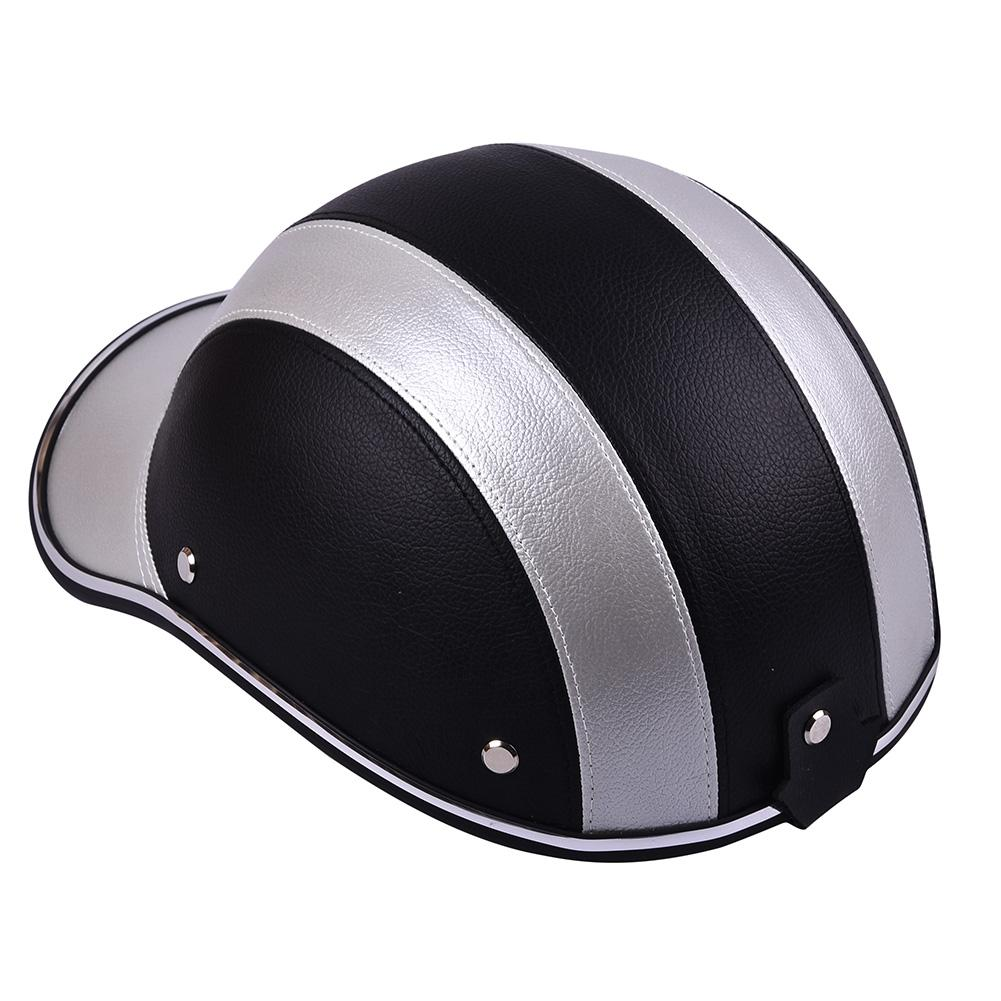helmet: (15, 123, 958, 893)
